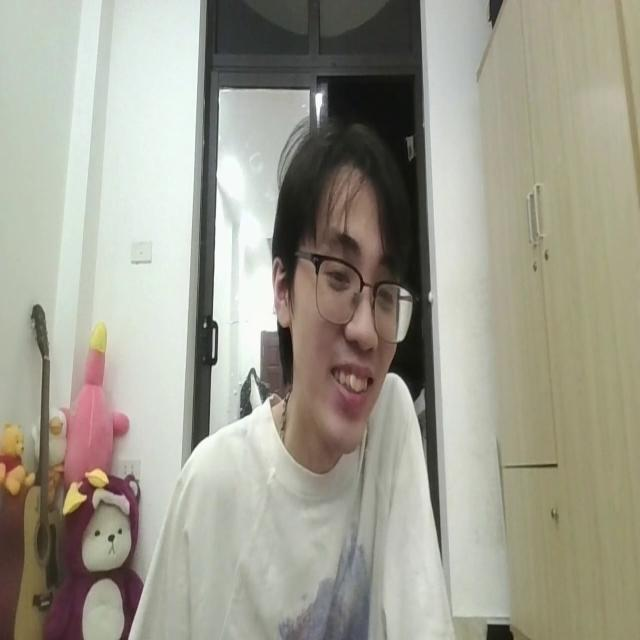student: (121, 104, 452, 640)
